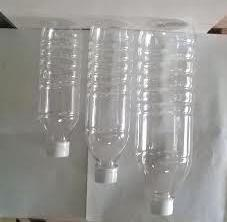Plastic: (138, 21, 197, 216), (86, 20, 135, 184), (38, 21, 82, 157)
